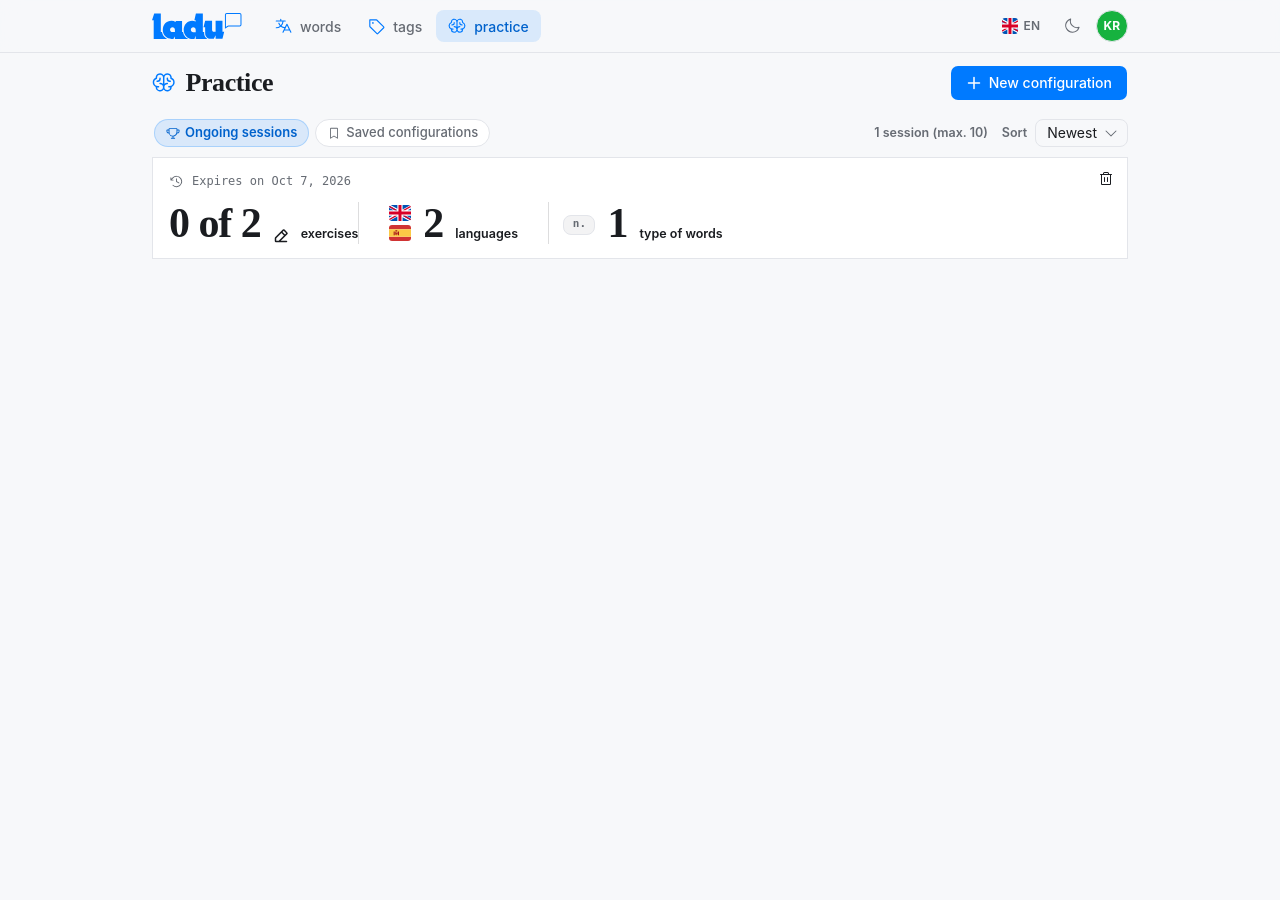
Scenario: Saved sessions list › resumes a saved session where it was left, linked to its saved copy
Click the button with aria-label "Resume session with 0 of 2 answered": (640, 208) [152,157,1128,259]
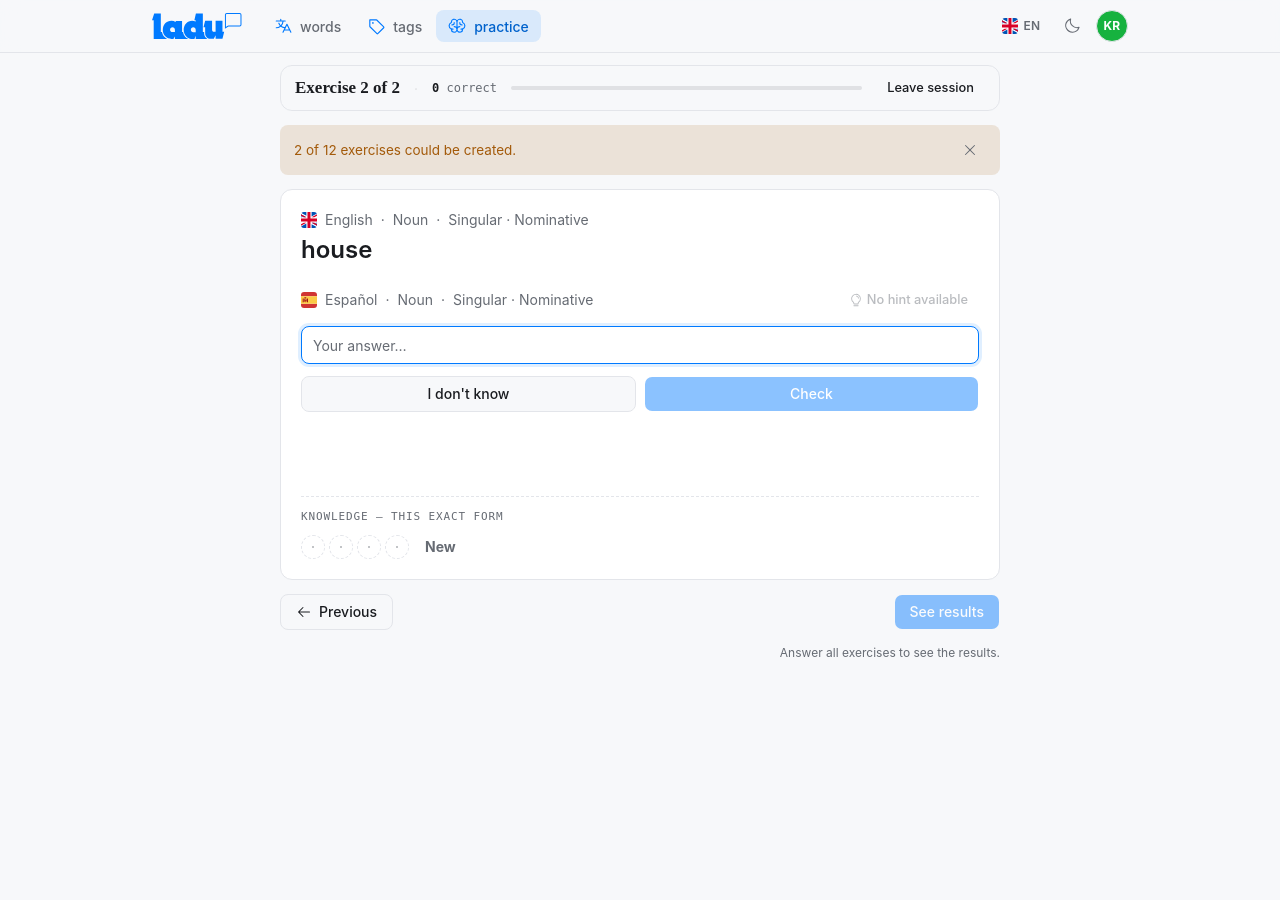
Now the heading "Exercise 2 of 2" is shown, box [295,75,400,101]
